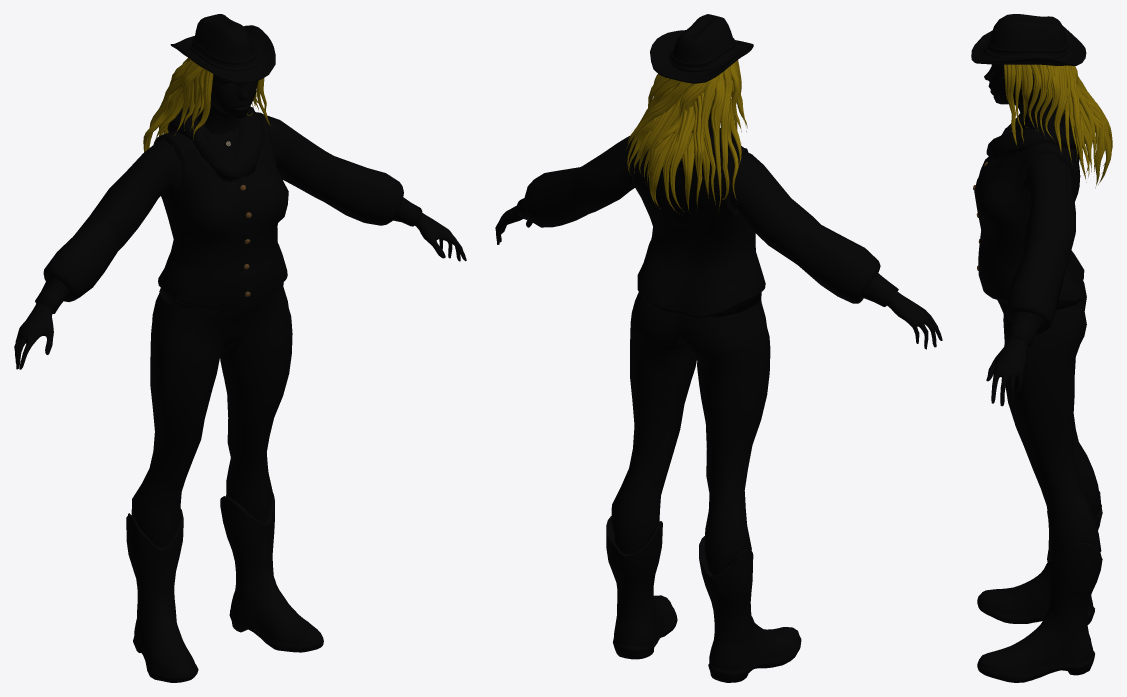
The model's file is SM_Mae.fbx.
The picture shows the model from 3 angles, left to right: view 1: azimuth 30°, elevation 25°; view 2: azimuth 150°, elevation 25°; view 3: azimuth 270°, elevation 25°; orthographic projection.
Parts seen in each view (by area): view 1: Mae; view 2: Mae; view 3: Mae.
Boxes of the visible parts, x1,y1,x2,y2 form: Mae: [14, 14, 466, 682]; Mae: [495, 14, 942, 682]; Mae: [971, 14, 1112, 682].
Bounding box in the file's own units: 216 × 292 × 59.48.
